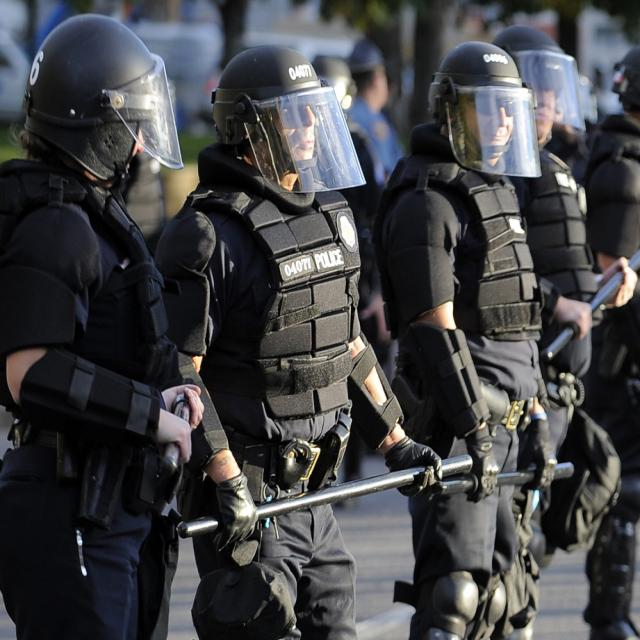police: (162, 38, 406, 640), (0, 1, 192, 640), (376, 23, 559, 640)
